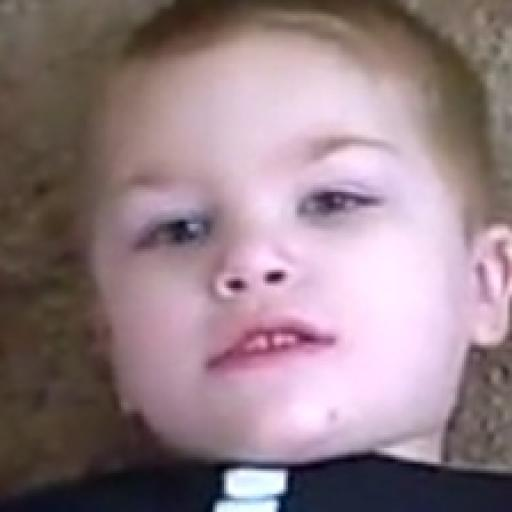Autism: (56, 38, 512, 500)
